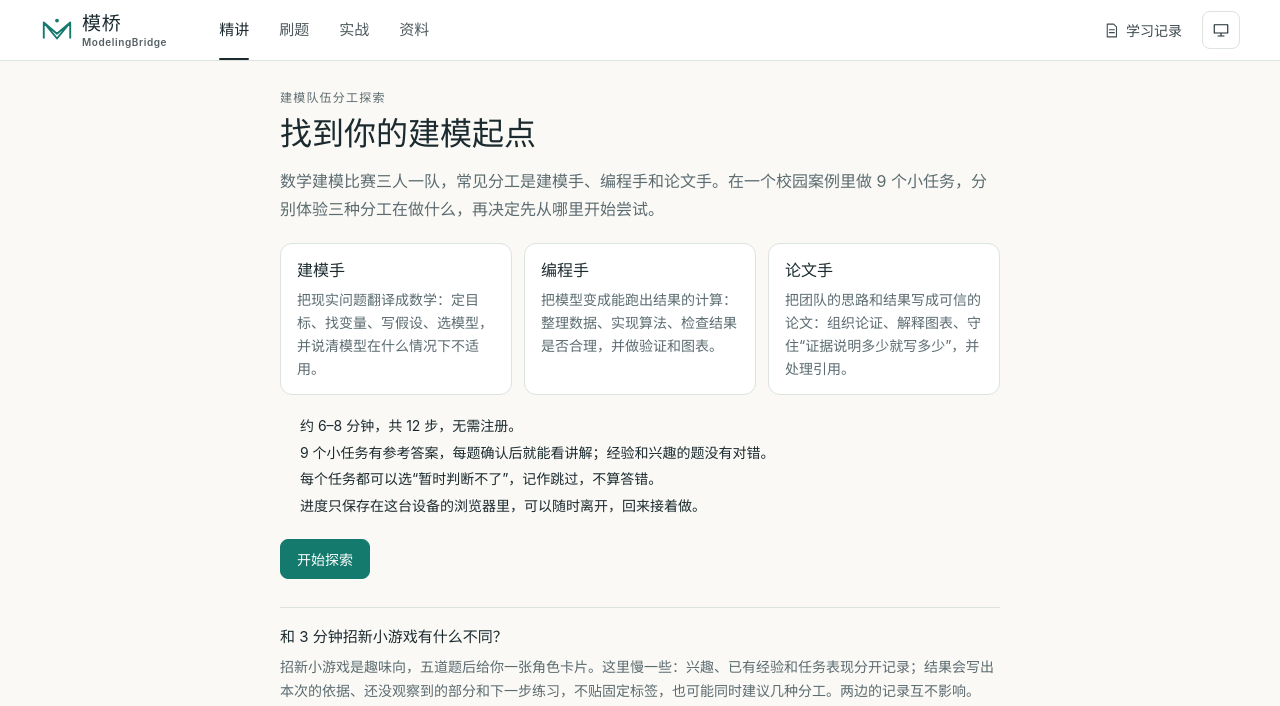
/learn/team-roles › warns when progress cannot be saved while still allowing exploration
Check: the heading "找到你的建模起点" is shown, box [280,114,536,153]
Click the button "开始探索" at (325, 559), box [280,539,370,579]
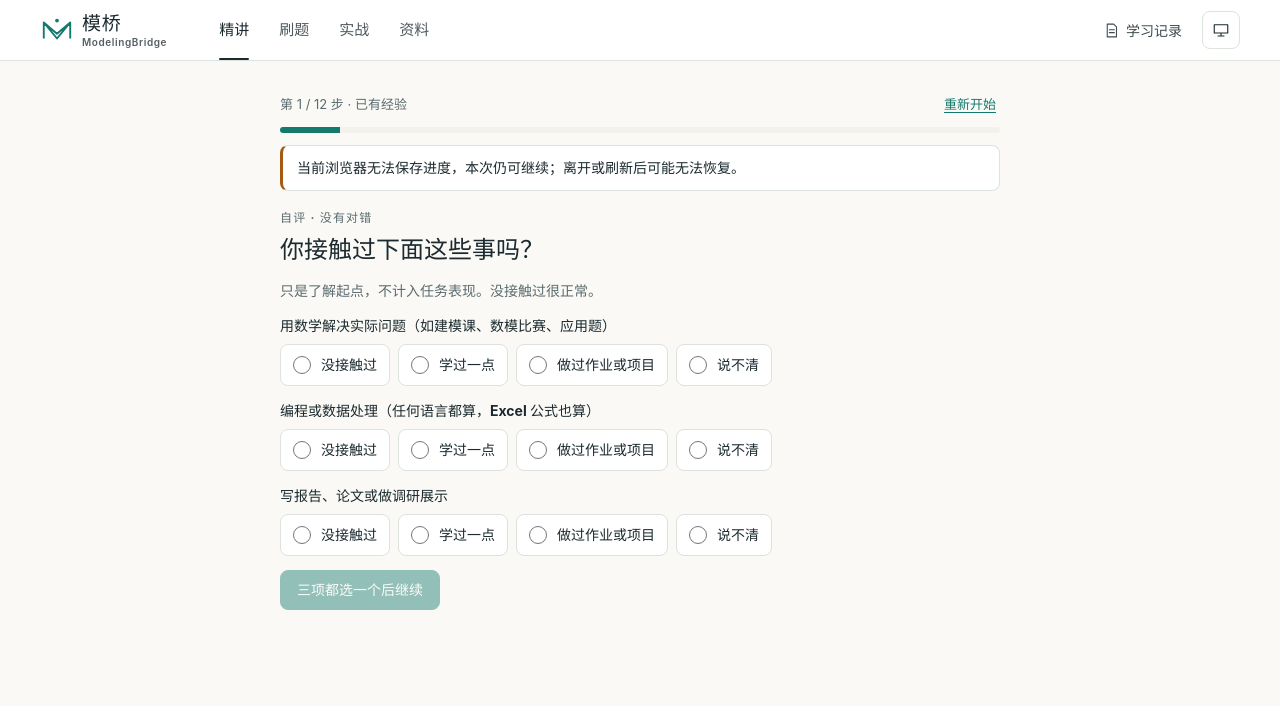
Check: the message shows "无法保存进度", box [297,159,745,176]
Click the radio button labelled "学过一点" below "用数学解决实际问题（如建模课、数模比赛、应用题）" at (420, 365), box [411,356,429,374]
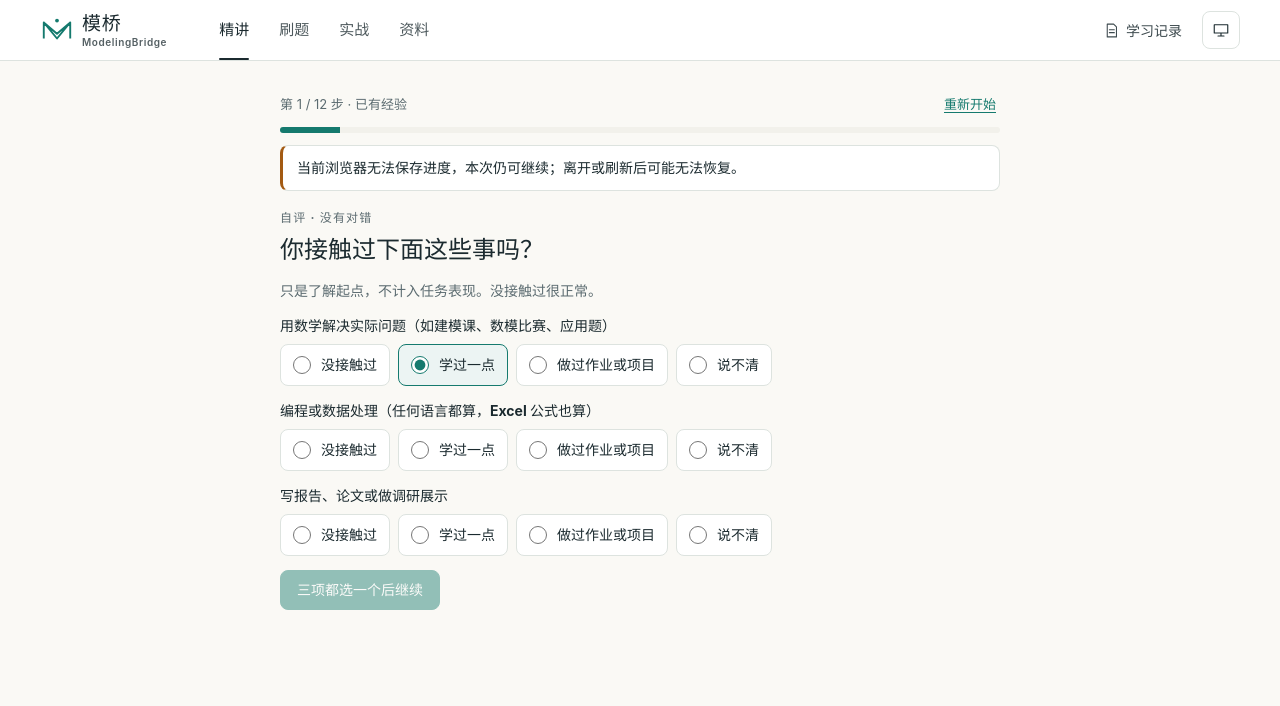
Click the radio button labelled "没接触过" below "编程或数据处理（任何语言都算，Excel 公式也算）" at (302, 450), box [293,441,311,459]
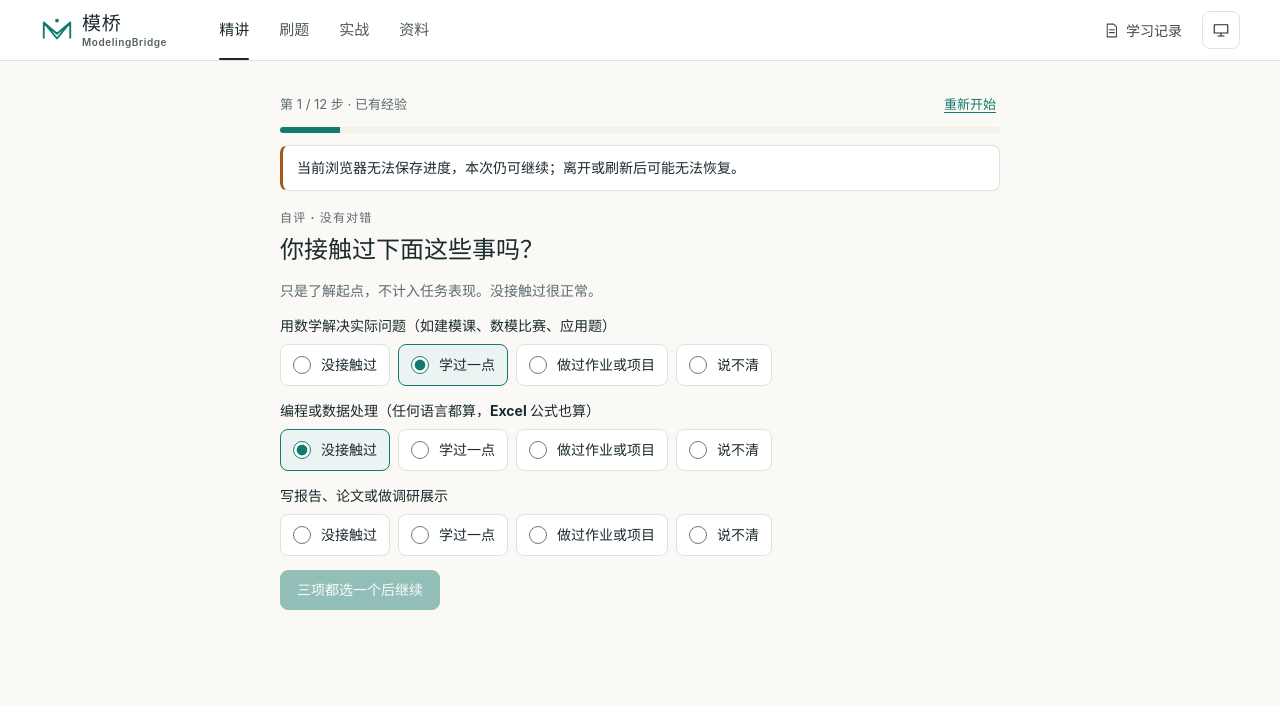
Click the radio button labelled "学过一点" below "写报告、论文或做调研展示" at (420, 535), box [411,526,429,544]
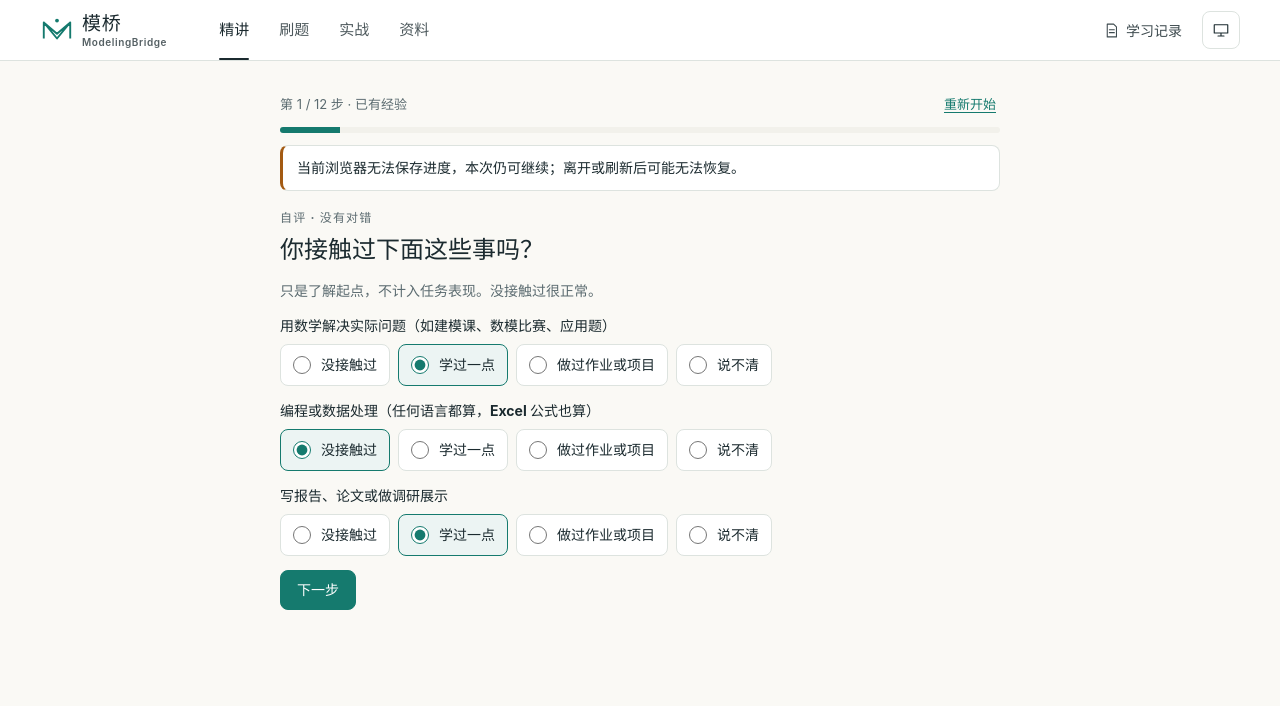
Click the button "下一步" at (318, 590), box [280,570,356,610]
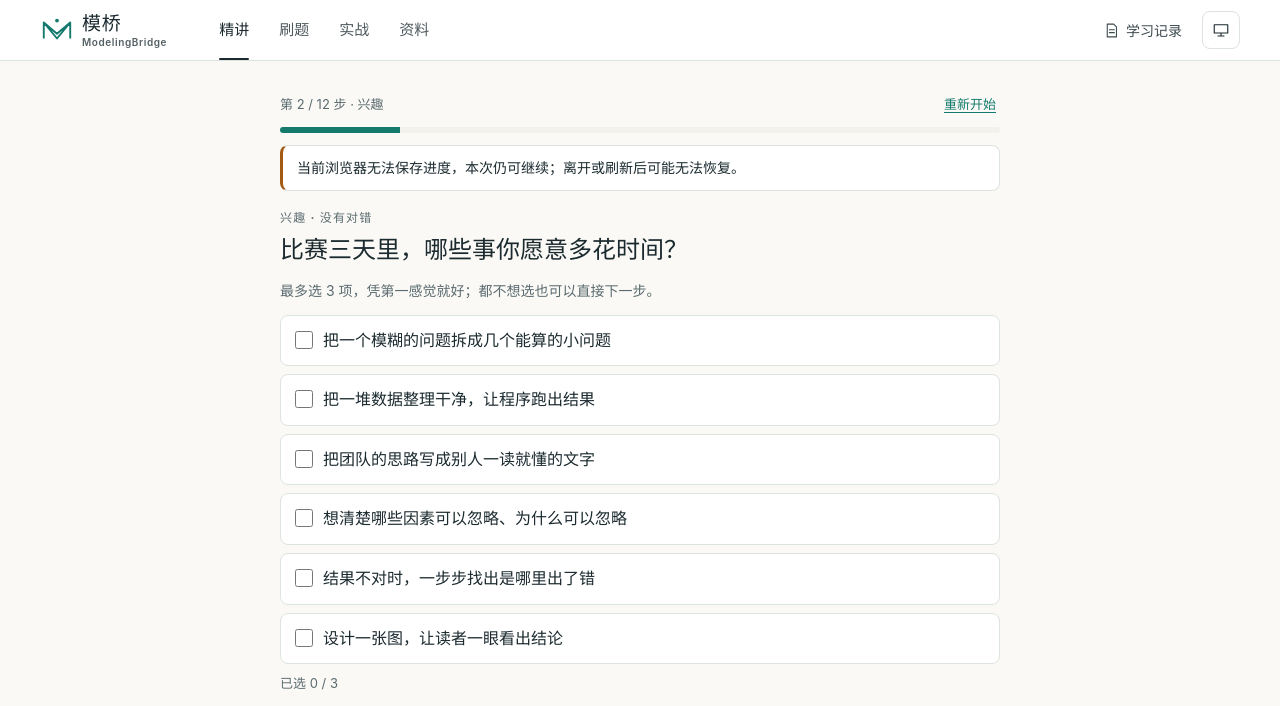
Check: the heading shows "哪些事你愿意多花时间", box [280,235,688,264]
